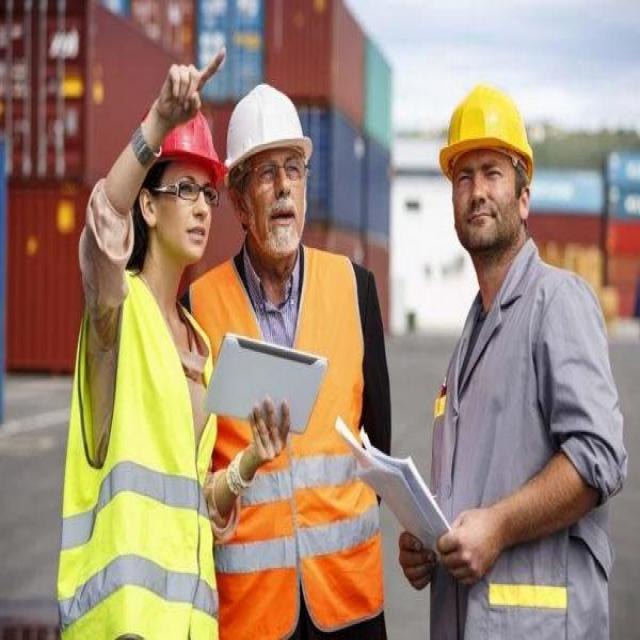Reflective-Jacket: (199, 258, 381, 632), (53, 269, 218, 638)
Safety-Helmet: (434, 75, 540, 176), (221, 77, 317, 176), (136, 108, 227, 190)
